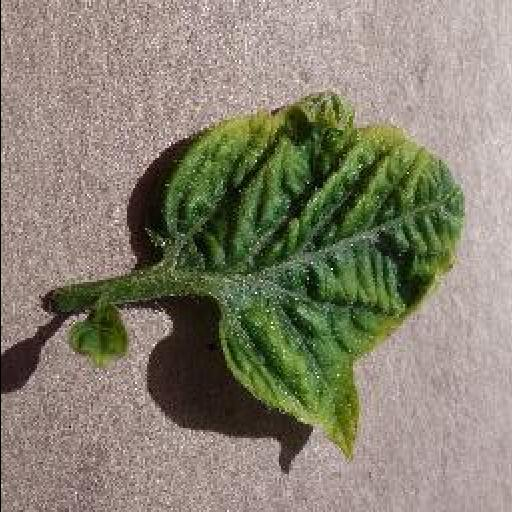disease_tomato: (164, 94, 464, 464)
